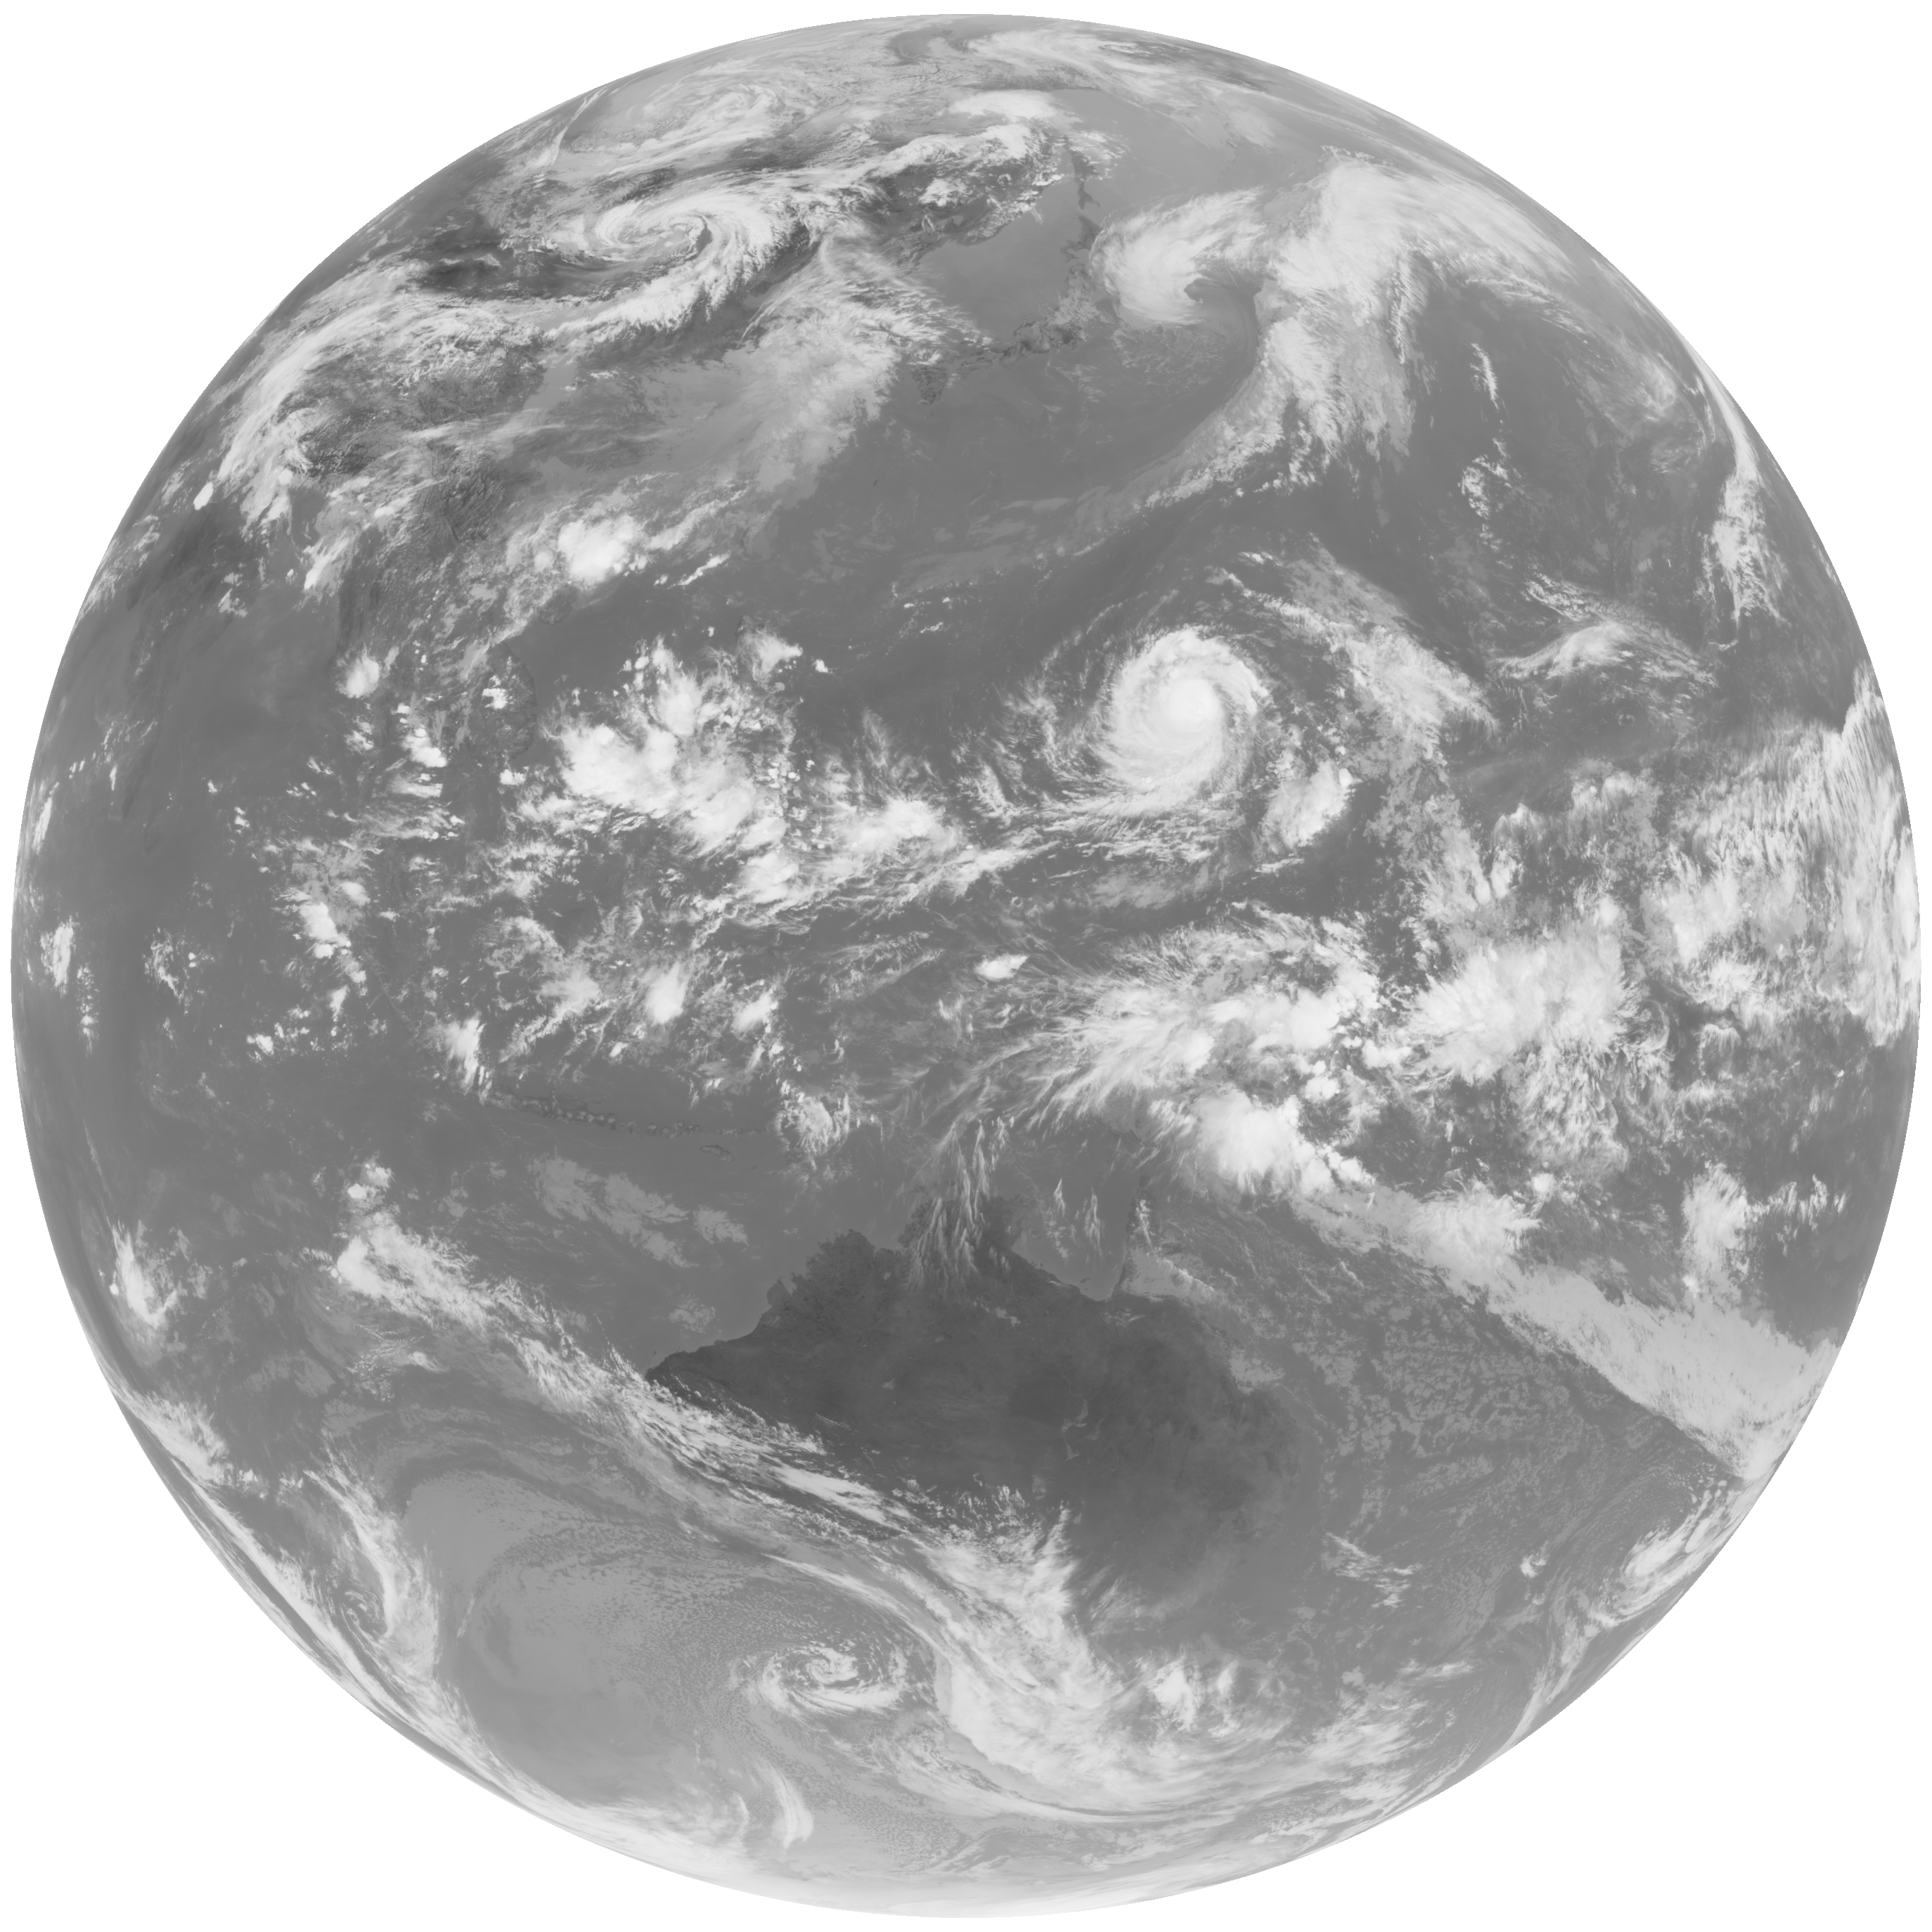typhoon: (929, 534, 1442, 899)
